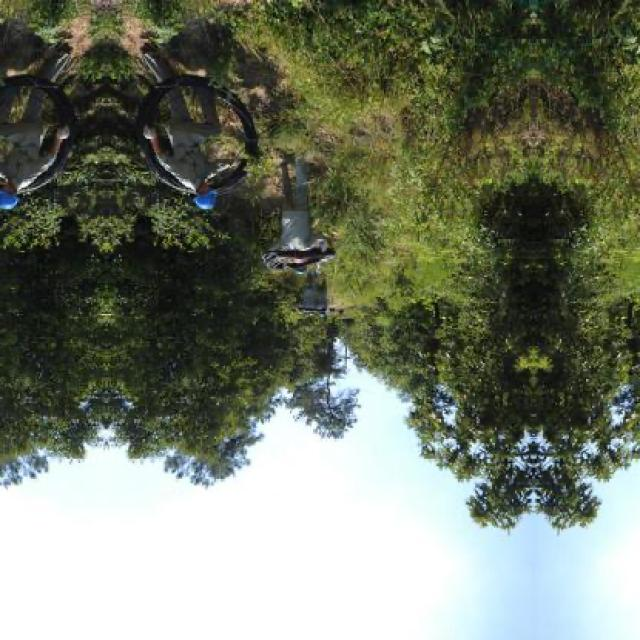con casco: (252, 220, 354, 280), (168, 153, 236, 224), (0, 157, 56, 219)
